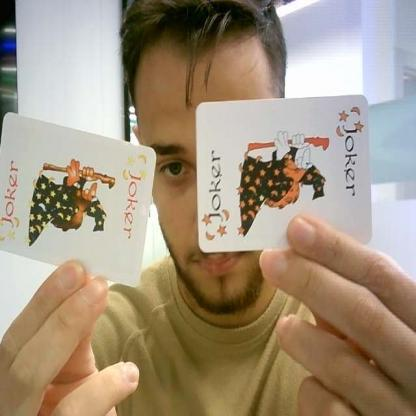RED JOKER: (201, 146, 232, 244), (334, 107, 364, 199), (120, 152, 146, 240), (0, 156, 25, 245)
